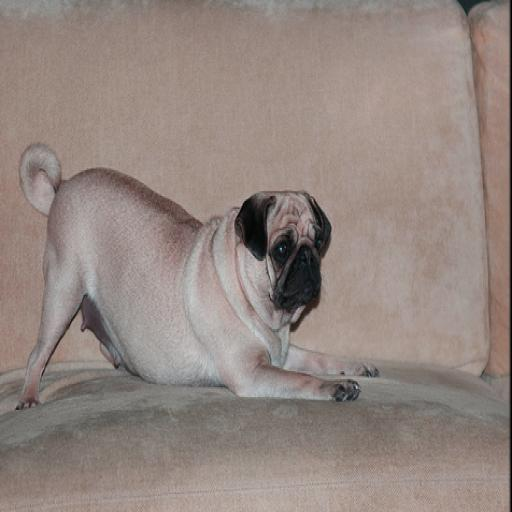dog_face: (236, 186, 336, 329)
